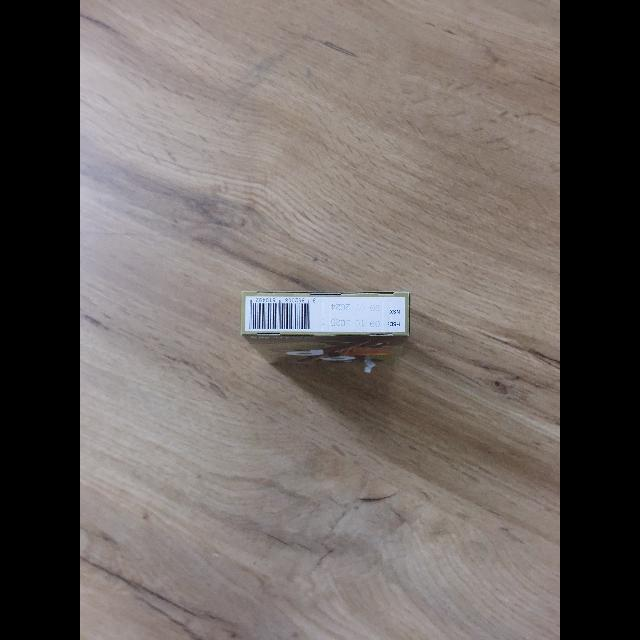banh_toppo_socola: (241, 291, 410, 372)
